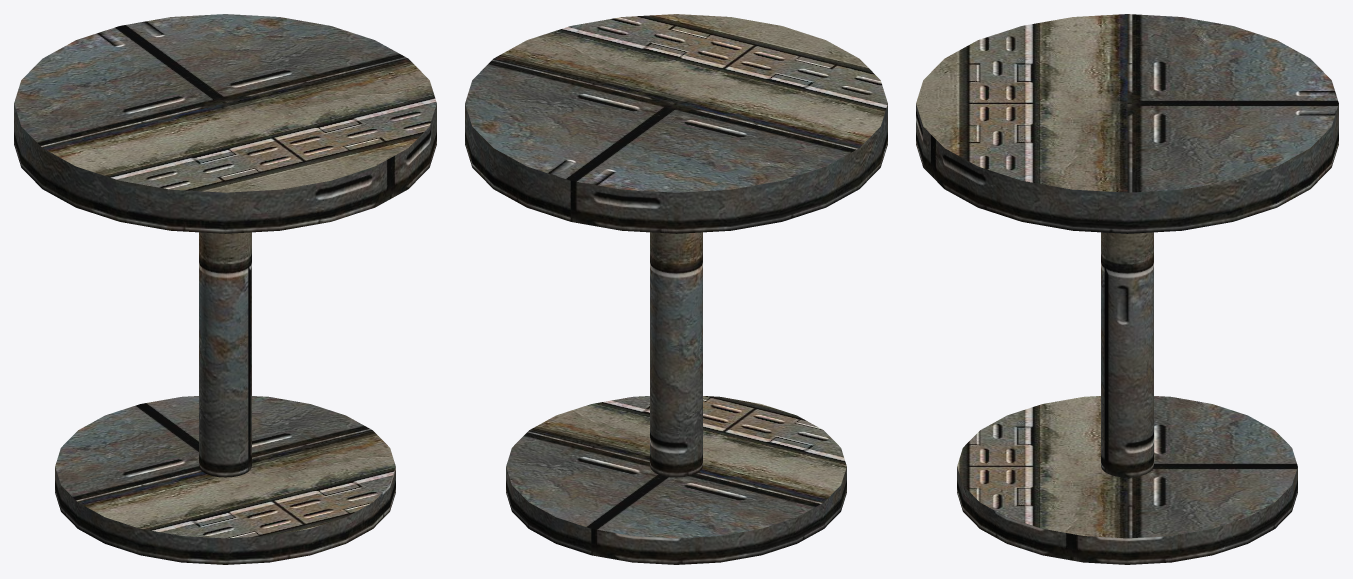
File: barStool.fbx
3 renders of one model, left to right at view 1: azimuth 30°, elevation 25°; view 2: azimuth 150°, elevation 25°; view 3: azimuth 270°, elevation 25°, orthographic.
Visible parts, largest first — view 1: Model; view 2: Model; view 3: Model.
Part boxes in pixels (x1,y1,x2,y2): Model: (14,14,436,564); Model: (465,14,887,564); Model: (916,14,1338,564).
Bounding box in the file's own units: 56.7 × 57.64 × 56.7.
